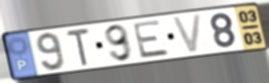8: (209, 12, 238, 50)
9: (33, 31, 67, 73), (102, 23, 135, 64)
E: (131, 18, 172, 60)
T: (64, 27, 92, 69)
V: (170, 12, 204, 55)
